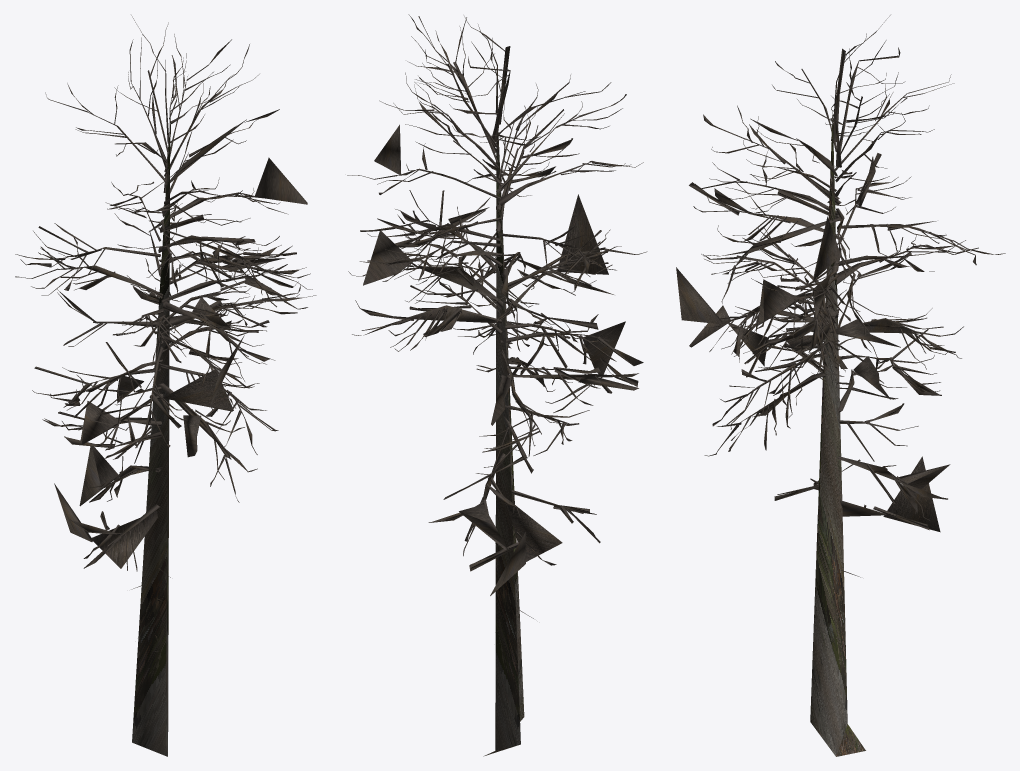
File: pine_c.glb
3 renders of one model, left to right at view 1: azimuth 30°, elevation 25°; view 2: azimuth 150°, elevation 25°; view 3: azimuth 270°, elevation 25°, orthographic. The views are drawn at different scales.
Visible parts, largest first — view 1: pine_c; view 2: pine_c; view 3: pine_c.
Boxes of the visible parts, x1=… form: pine_c: x1=15, y1=15, x2=316, y2=756; pine_c: x1=347, y1=14, x2=647, y2=756; pine_c: x1=676, y1=15, x2=1005, y2=756.
Size of the model in its own units: 3.43 by 9.21 by 3.73.
3 materials, 3 textured.
